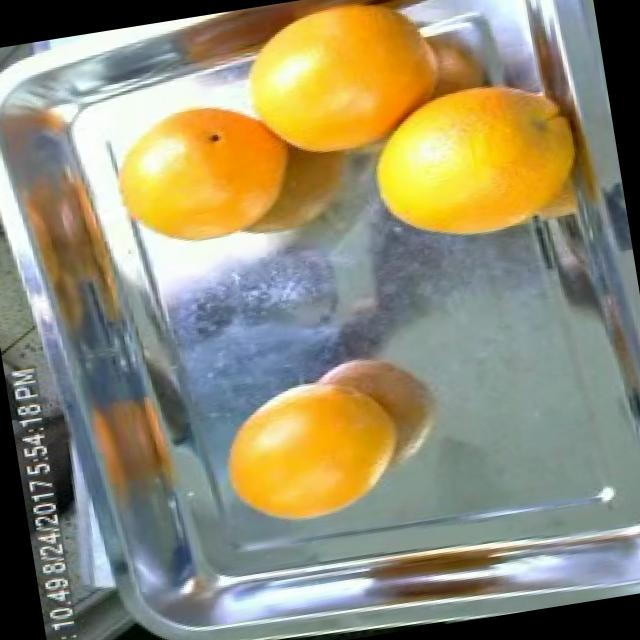Fruit: (344, 60, 580, 268), (87, 72, 316, 276), (200, 362, 388, 542), (143, 0, 329, 87)
